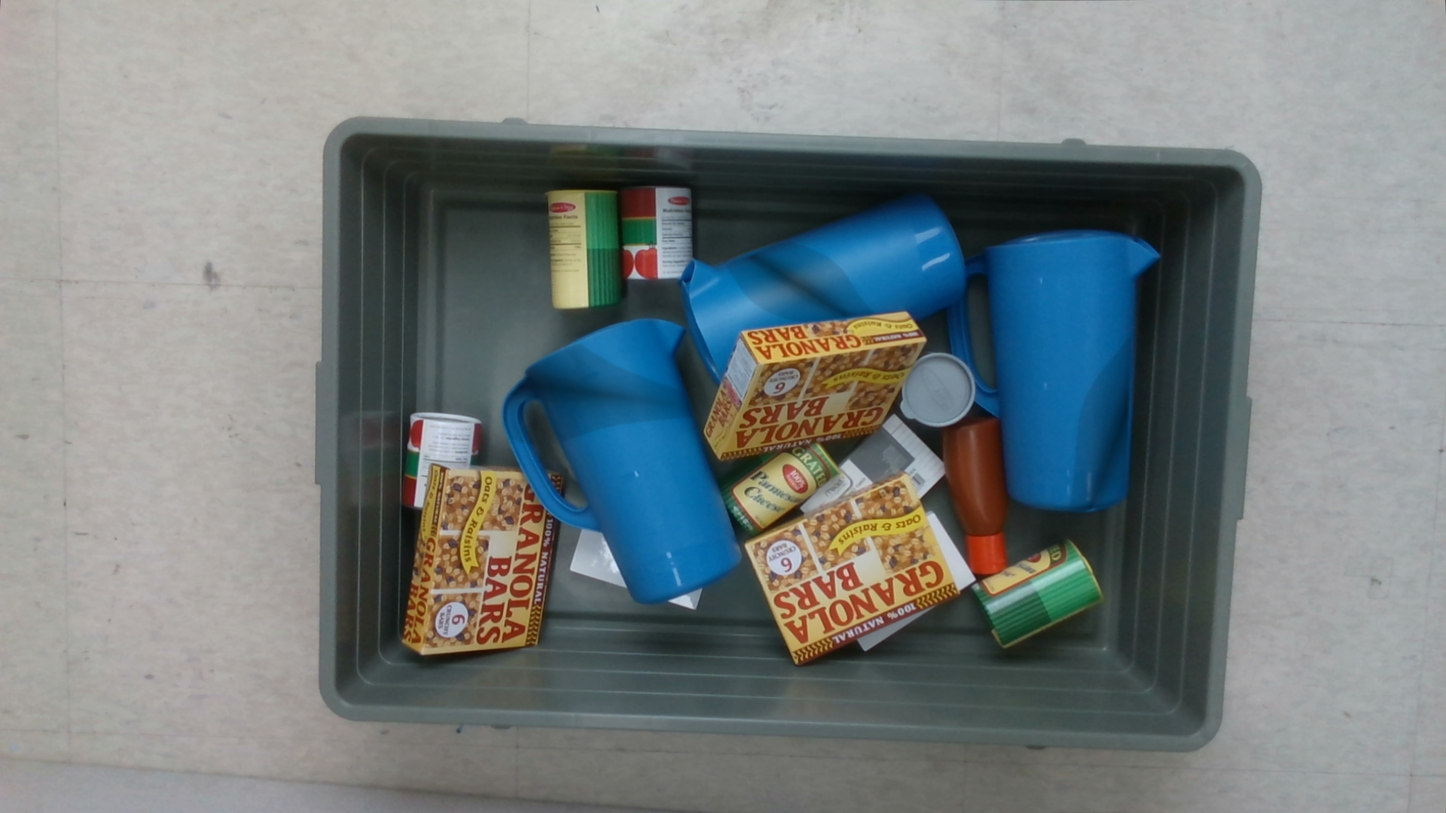defect: (502, 344, 692, 445), (726, 242, 874, 322), (1069, 336, 1132, 513)
